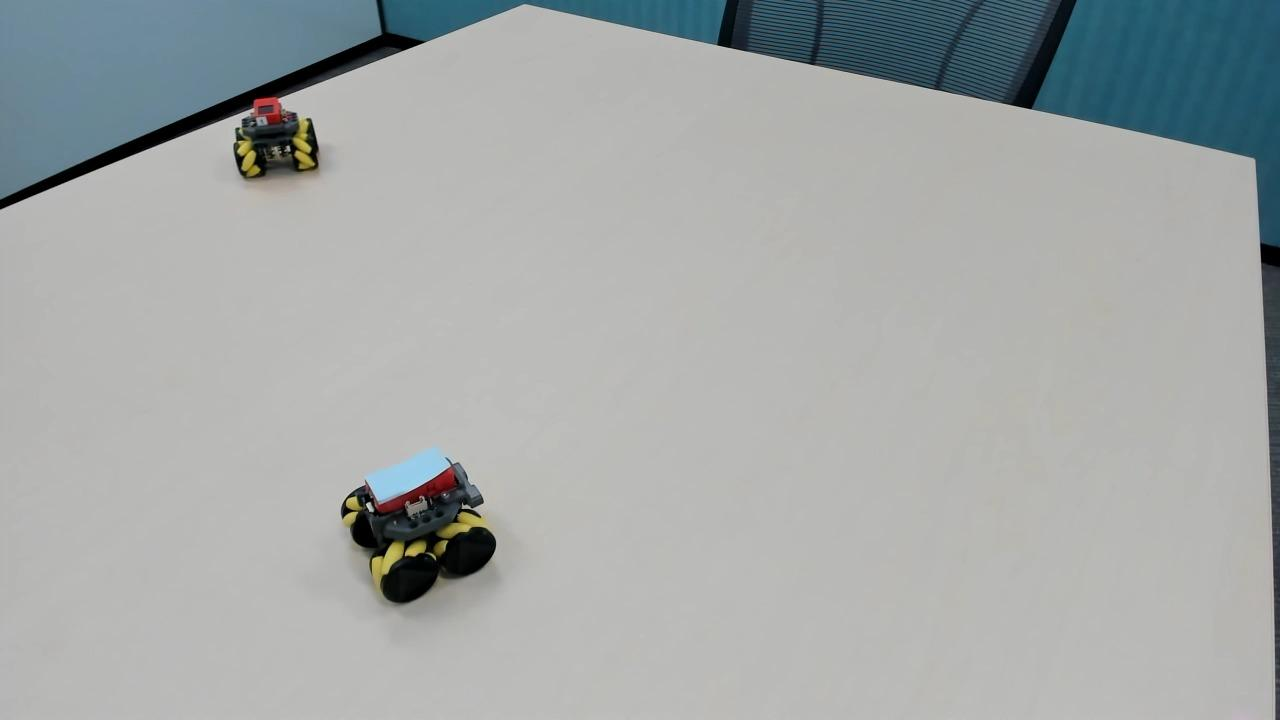B-Robot: (328, 439, 502, 614)
R-Robot: (233, 88, 331, 189)
